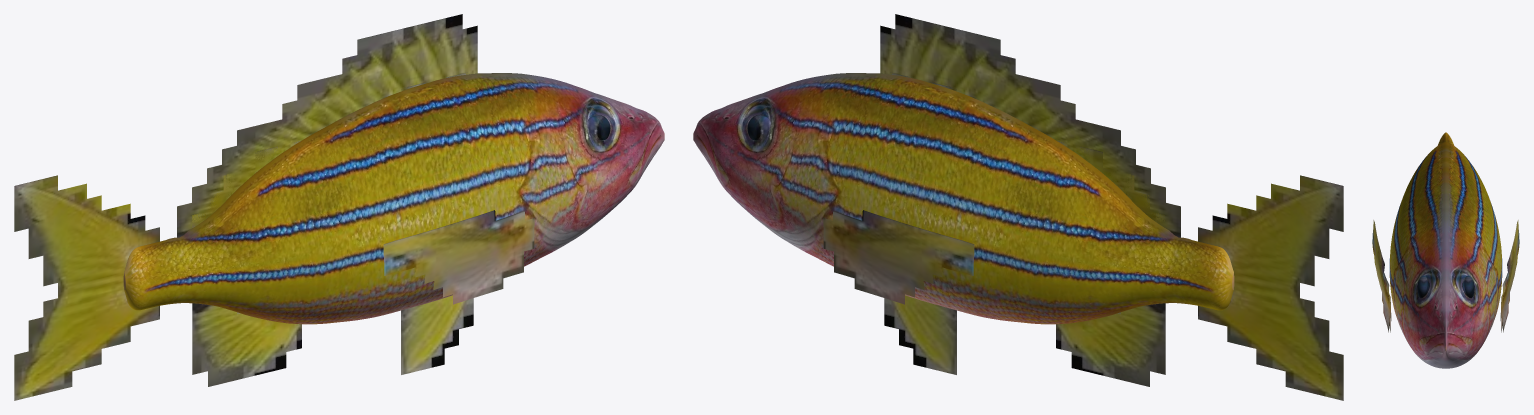
The model's file is real-lutjanus_kasmira.glb.
3 views of the same model, side by side, from view 1: azimuth 30°, elevation 25°; view 2: azimuth 150°, elevation 25°; view 3: azimuth 270°, elevation 25° (orthographic). The views are drawn at different scales.
Visible parts, largest first — view 1: lutjanus_kasmira; view 2: lutjanus_kasmira; view 3: lutjanus_kasmira.
Boxes of the visible parts, <box> form: lutjanus_kasmira: <box>14,14,664,400</box>; lutjanus_kasmira: <box>693,14,1343,400</box>; lutjanus_kasmira: <box>1372,132,1519,368</box>.
Size of the model in its own units: 0.2504 by 0.1273 by 0.0626.
1 material, 1 textured.
